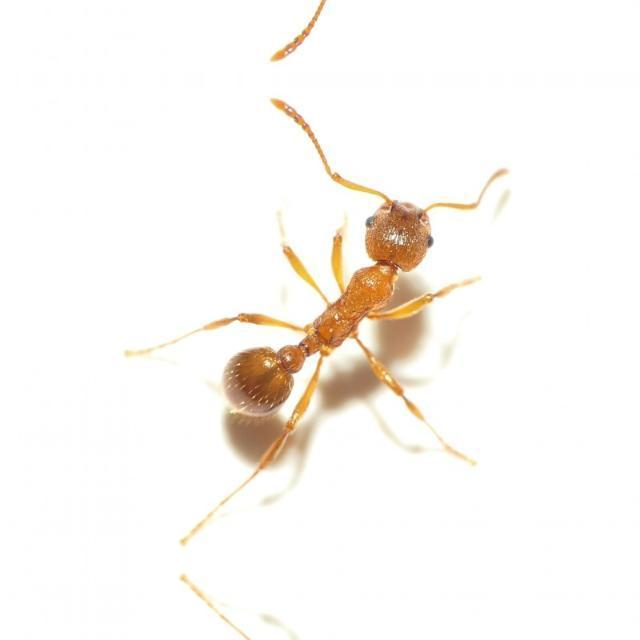Myrmica: (170, 126, 530, 462)
